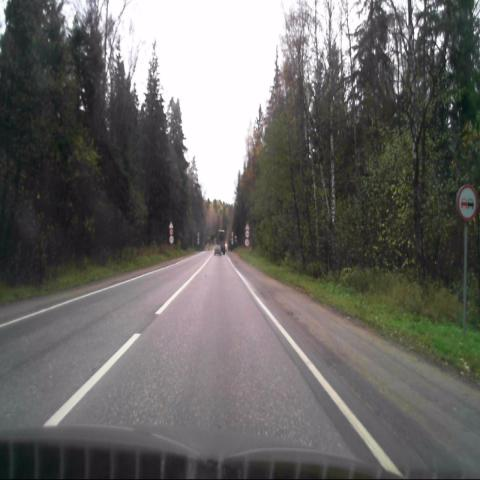3_20: (457, 184, 477, 222)
